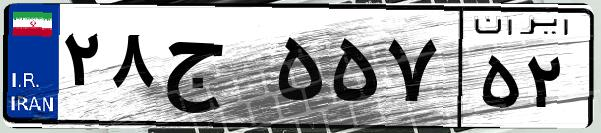2: (57, 26, 110, 100), (525, 38, 570, 115)
5: (270, 28, 330, 110), (330, 28, 385, 110), (475, 38, 525, 113)
7: (385, 28, 445, 110)
8: (110, 28, 158, 98)
ج: (158, 20, 270, 120)
